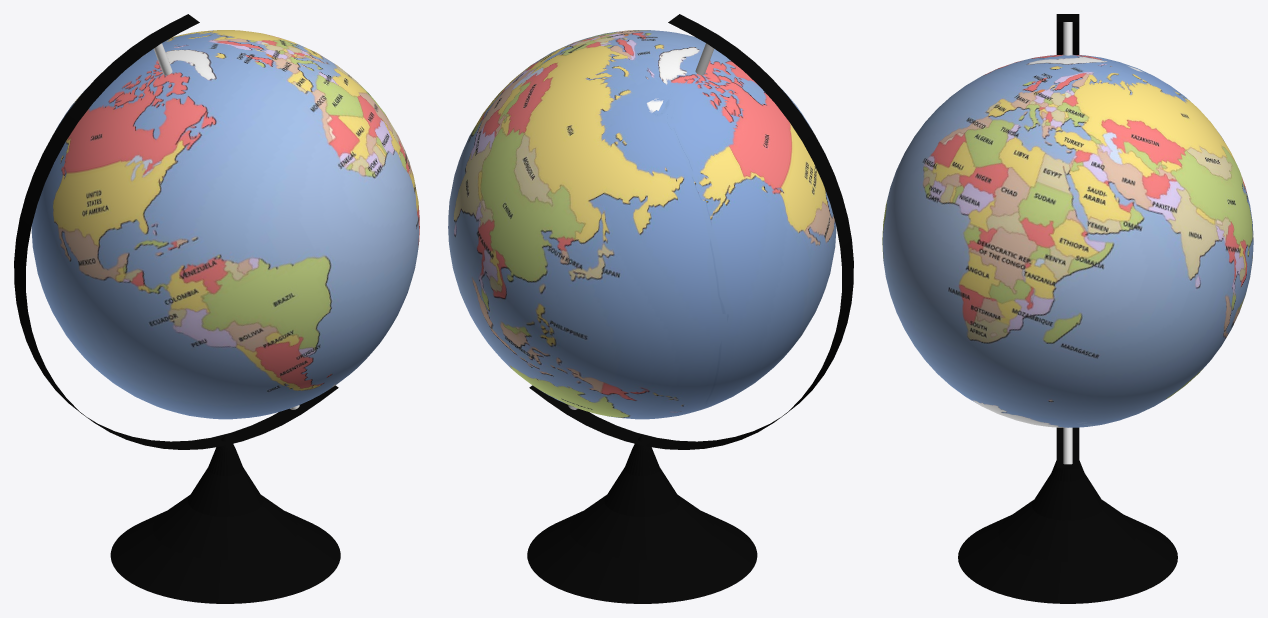
File: globe.glb
3 views of the same model, side by side, from view 1: azimuth 30°, elevation 25°; view 2: azimuth 150°, elevation 25°; view 3: azimuth 270°, elevation 25° (orthographic). The views are drawn at different scales.
Parts seen in each view (by area): view 1: Object_2, Object_4; view 2: Object_2, Object_4; view 3: Object_2, Object_4, Object_3.
Boxes of the visible parts, x1,y1,x2,y2 form: Object_2: (31, 30, 419, 419); Object_4: (14, 14, 340, 603); Object_2: (448, 30, 836, 419); Object_4: (527, 14, 853, 603); Object_2: (882, 54, 1253, 427); Object_4: (958, 14, 1177, 603); Object_3: (1063, 22, 1072, 464).
Bounding box in the file's own units: 2.2 × 3.07 × 1.98.
Materials: 3 (1 with a texture image).
